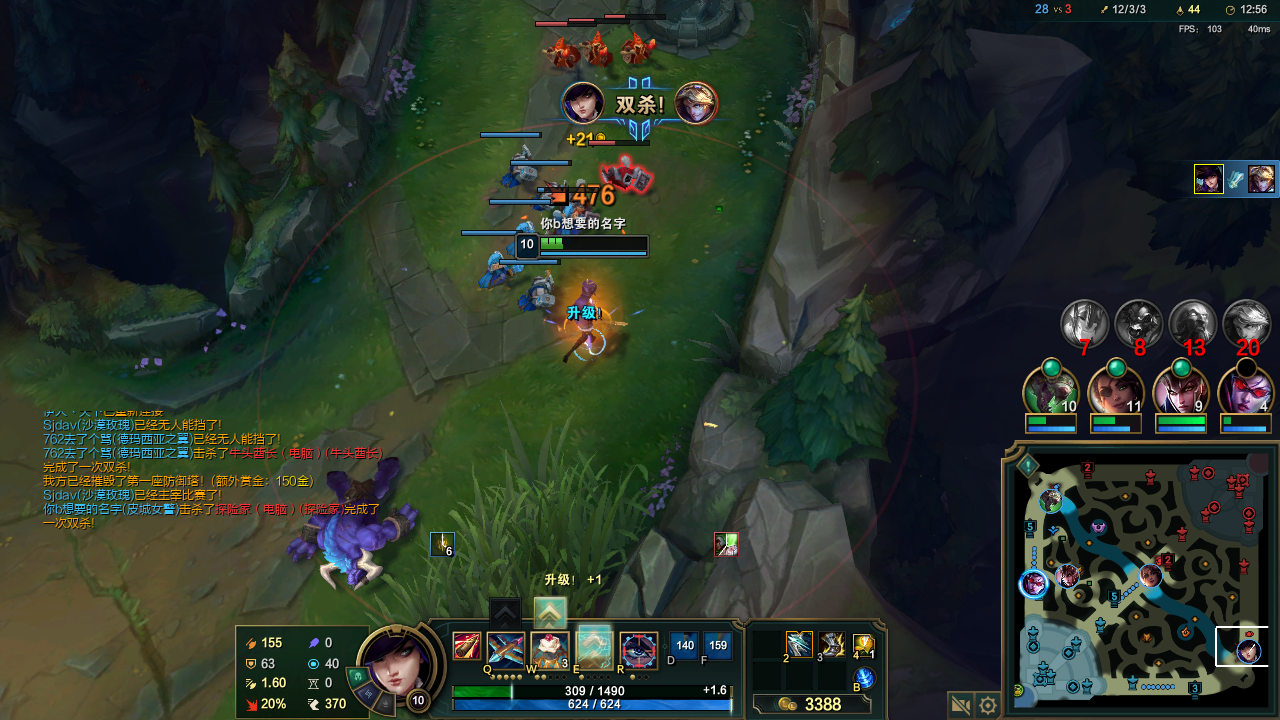DFXB: (605, 154, 643, 189), (618, 33, 652, 65), (546, 36, 574, 67), (582, 34, 609, 62)
WFXB: (479, 248, 511, 286), (503, 154, 533, 183), (523, 273, 550, 305), (534, 179, 561, 204)
